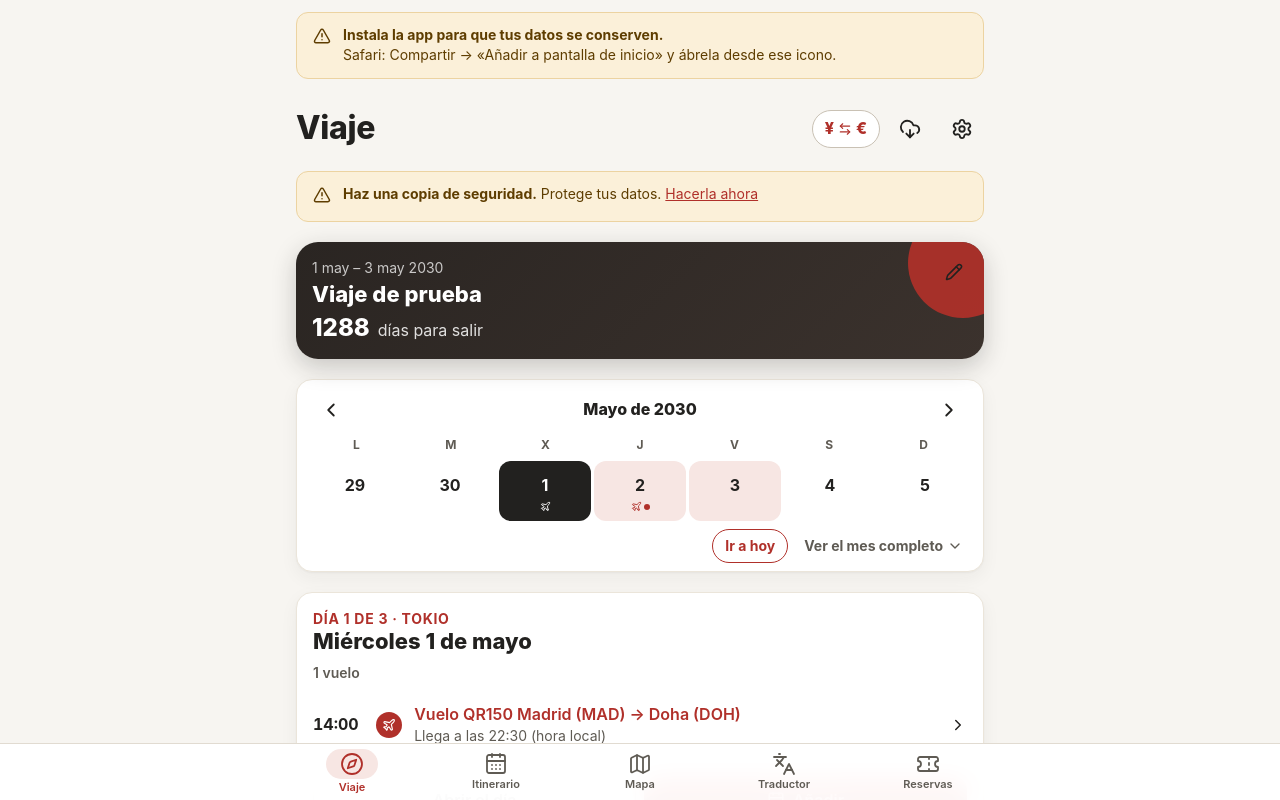
itinerario, día de vuelo y calendario › un día sin nada lo dice y deja añadir una actividad
Click the button named "viernes 3 de mayo" at (735,491), box [689,461,781,521]
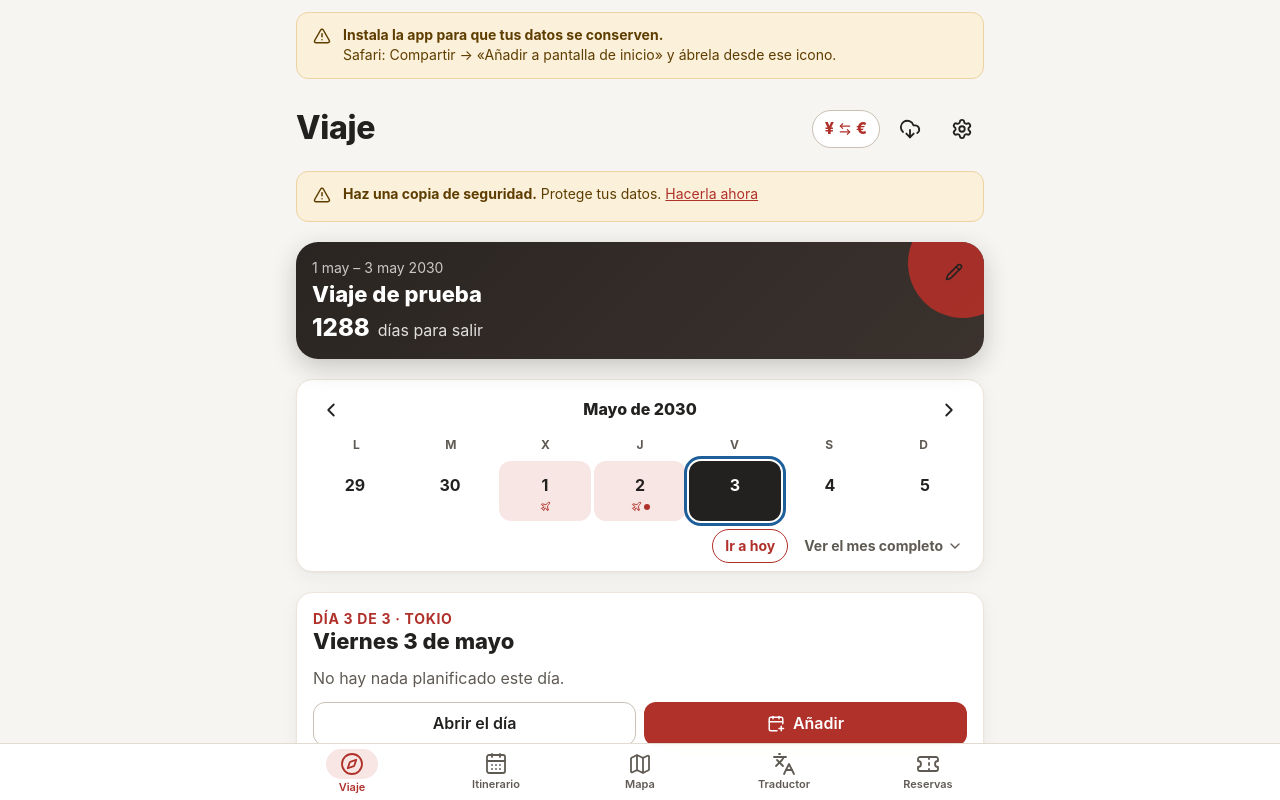
expect the text "No hay nada planificado este día." is shown: met, box [313,668,564,688]
